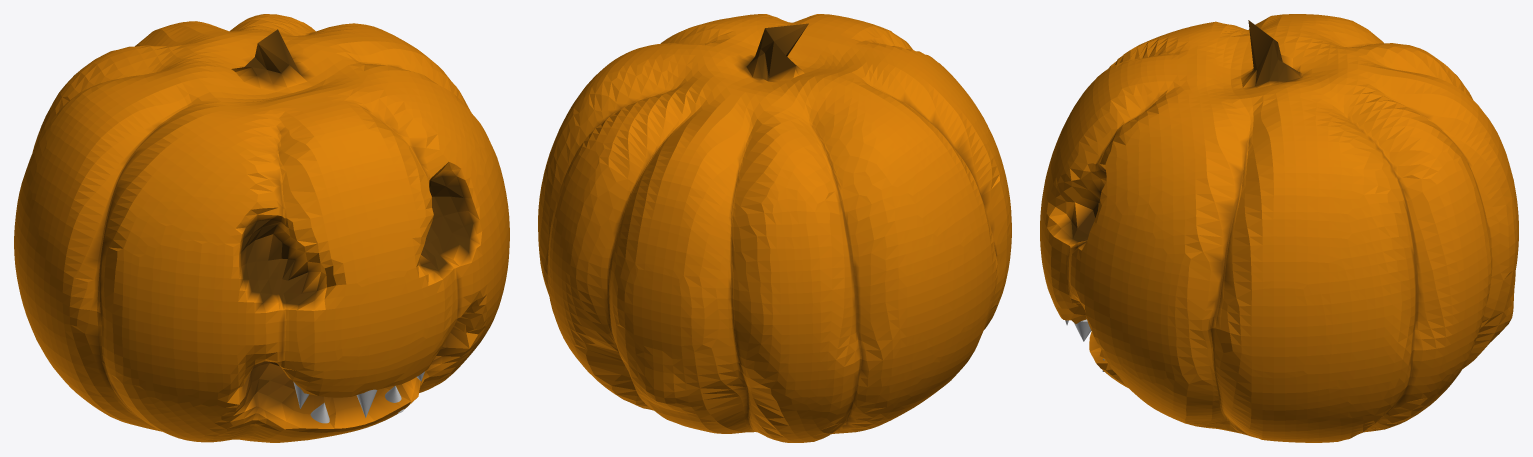
The model's file is pumpkin.glb.
The picture shows the model from 3 angles, left to right: view 1: azimuth 30°, elevation 25°; view 2: azimuth 150°, elevation 25°; view 3: azimuth 270°, elevation 25°; orthographic projection. The views are drawn at different scales.
Parts seen in each view (by area): view 1: Sphere; view 2: Sphere; view 3: Sphere.
Boxes of the visible parts, x1,y1,x2,y2 form: Sphere: (14, 14, 509, 442); Sphere: (538, 14, 1011, 442); Sphere: (1040, 14, 1518, 442).
Size of the model in its own units: 0.9874 by 0.8544 by 0.9874.
